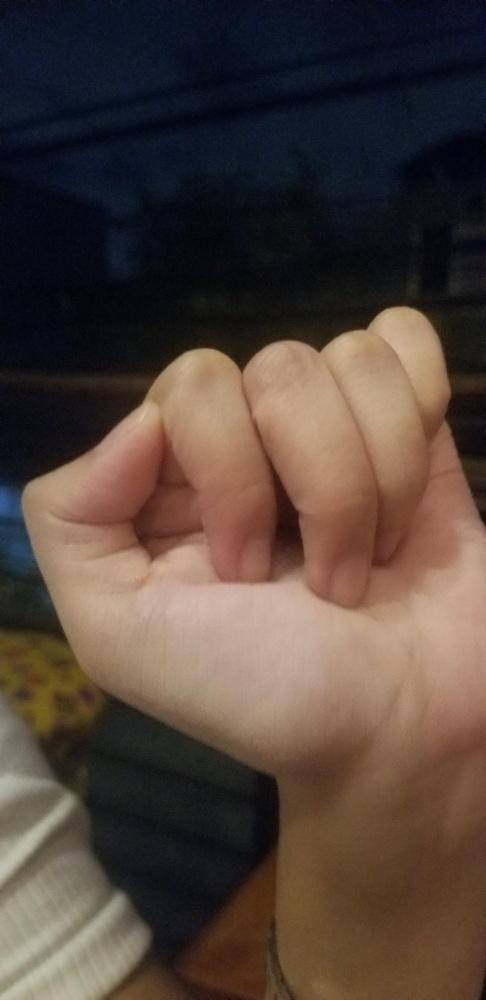a: (18, 302, 485, 775)
